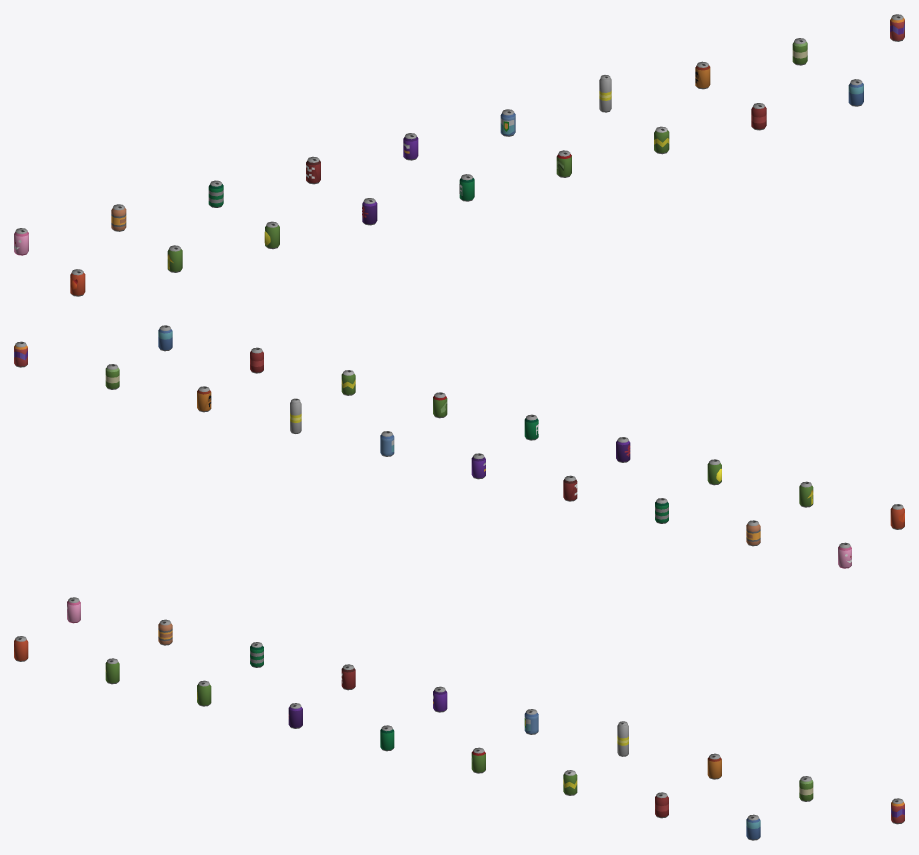
The model's file is soda.fbx.
3 views of the same model, one above another, from view 1: azimuth 30°, elevation 25°; view 2: azimuth 150°, elevation 25°; view 3: azimuth 330°, elevation 25° (orthographic). The views are drawn at different scales.
Size of the model in its own units: 9.13 by 0.331 by 1.12.
